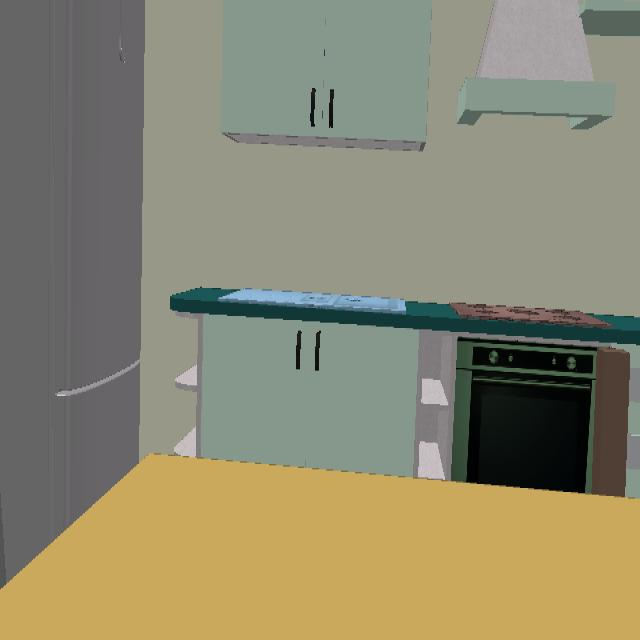cabinet: (175, 315, 461, 481), (218, 0, 433, 155), (580, 0, 640, 37)
chair: (586, 349, 640, 497)
countertop: (170, 288, 640, 345)
fridge: (0, 0, 145, 589)
oven: (451, 341, 596, 493)
stove: (454, 304, 611, 327)
table: (0, 455, 640, 640)
